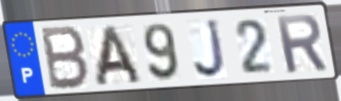2: (234, 17, 276, 77)
9: (143, 21, 182, 83)
A: (93, 23, 145, 89)
B: (39, 24, 91, 92)
J: (192, 16, 229, 81)
R: (272, 12, 330, 76)
